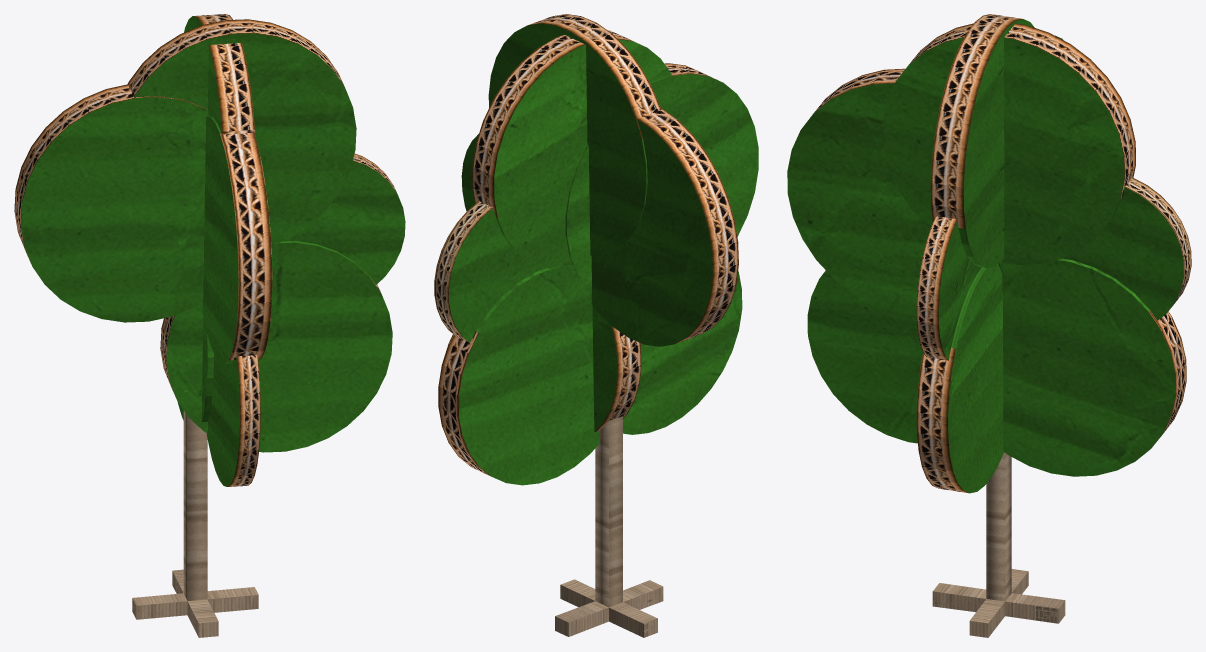
File: tree2.fbx
3 renders of one model, left to right at view 1: azimuth 30°, elevation 25°; view 2: azimuth 150°, elevation 25°; view 3: azimuth 270°, elevation 25°, orthographic. The views are drawn at different scales.
Visible parts, largest first — view 1: tree.006; view 2: tree.006; view 3: tree.006.
Boxes of the visible parts, x1=… form: tree.006: x1=14, y1=14, x2=405, y2=637; tree.006: x1=434, y1=14, x2=758, y2=637; tree.006: x1=787, y1=14, x2=1191, y2=637.
Bounding box in the file's own units: 5973 × 10049 × 6125.
8 materials, 8 textured.
